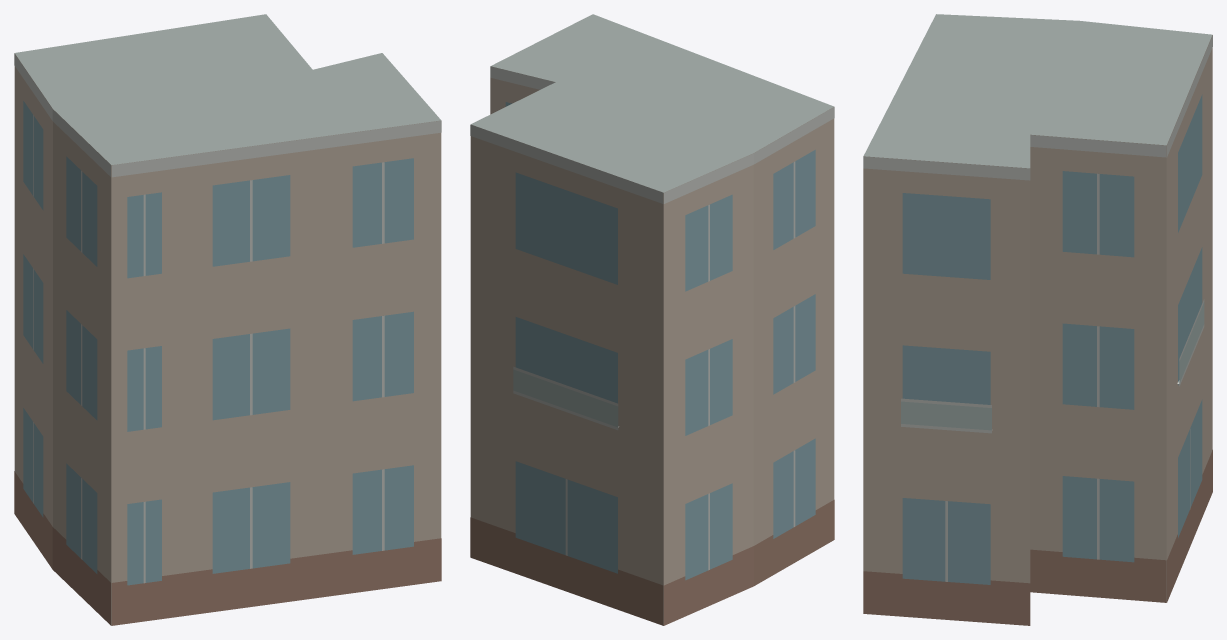
File: survey-upis-32544073.glb
The picture shows the model from 3 angles, left to right: view 1: azimuth 30°, elevation 25°; view 2: azimuth 150°, elevation 25°; view 3: azimuth 270°, elevation 25°; orthographic projection. The views are drawn at different scales.
Parts seen in each view (by area): view 1: survey-upis-32544073.tmp; view 2: survey-upis-32544073.tmp; view 3: survey-upis-32544073.tmp.
Part boxes in pixels (x1,y1,x2,y2): survey-upis-32544073.tmp: (14,14,441,625); survey-upis-32544073.tmp: (470,14,834,625); survey-upis-32544073.tmp: (863,14,1212,625).
Size of the model in its own units: 6.63 by 9.15 by 6.34.
